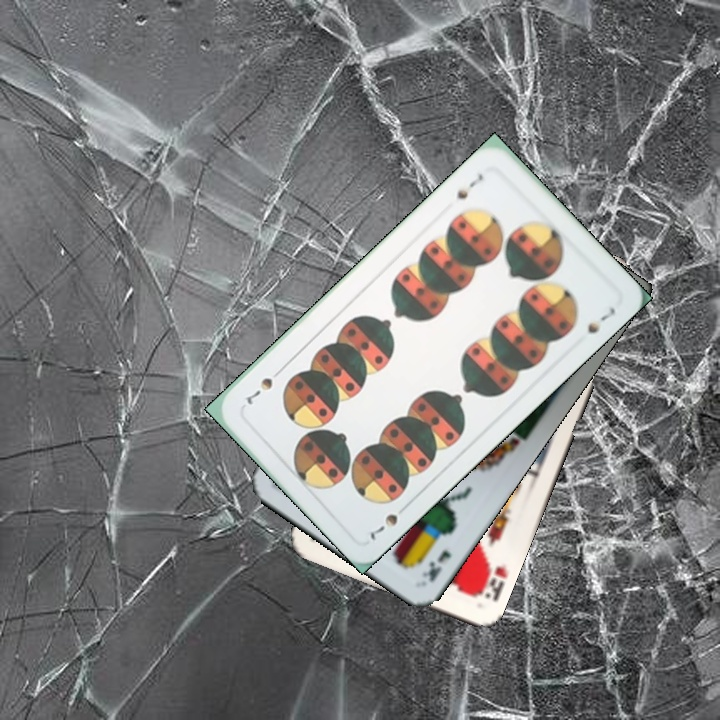EK: (417, 546, 454, 585)
HK: (472, 559, 510, 605)
S7: (366, 499, 412, 543), (450, 169, 486, 204)
